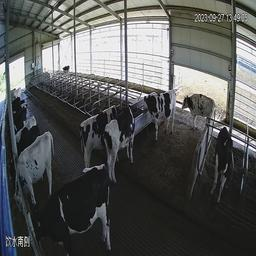cow: (23, 168, 111, 255), (77, 103, 126, 183), (14, 130, 55, 219), (103, 101, 139, 186), (143, 89, 179, 140), (208, 126, 231, 204), (173, 88, 206, 133), (57, 63, 69, 79)
